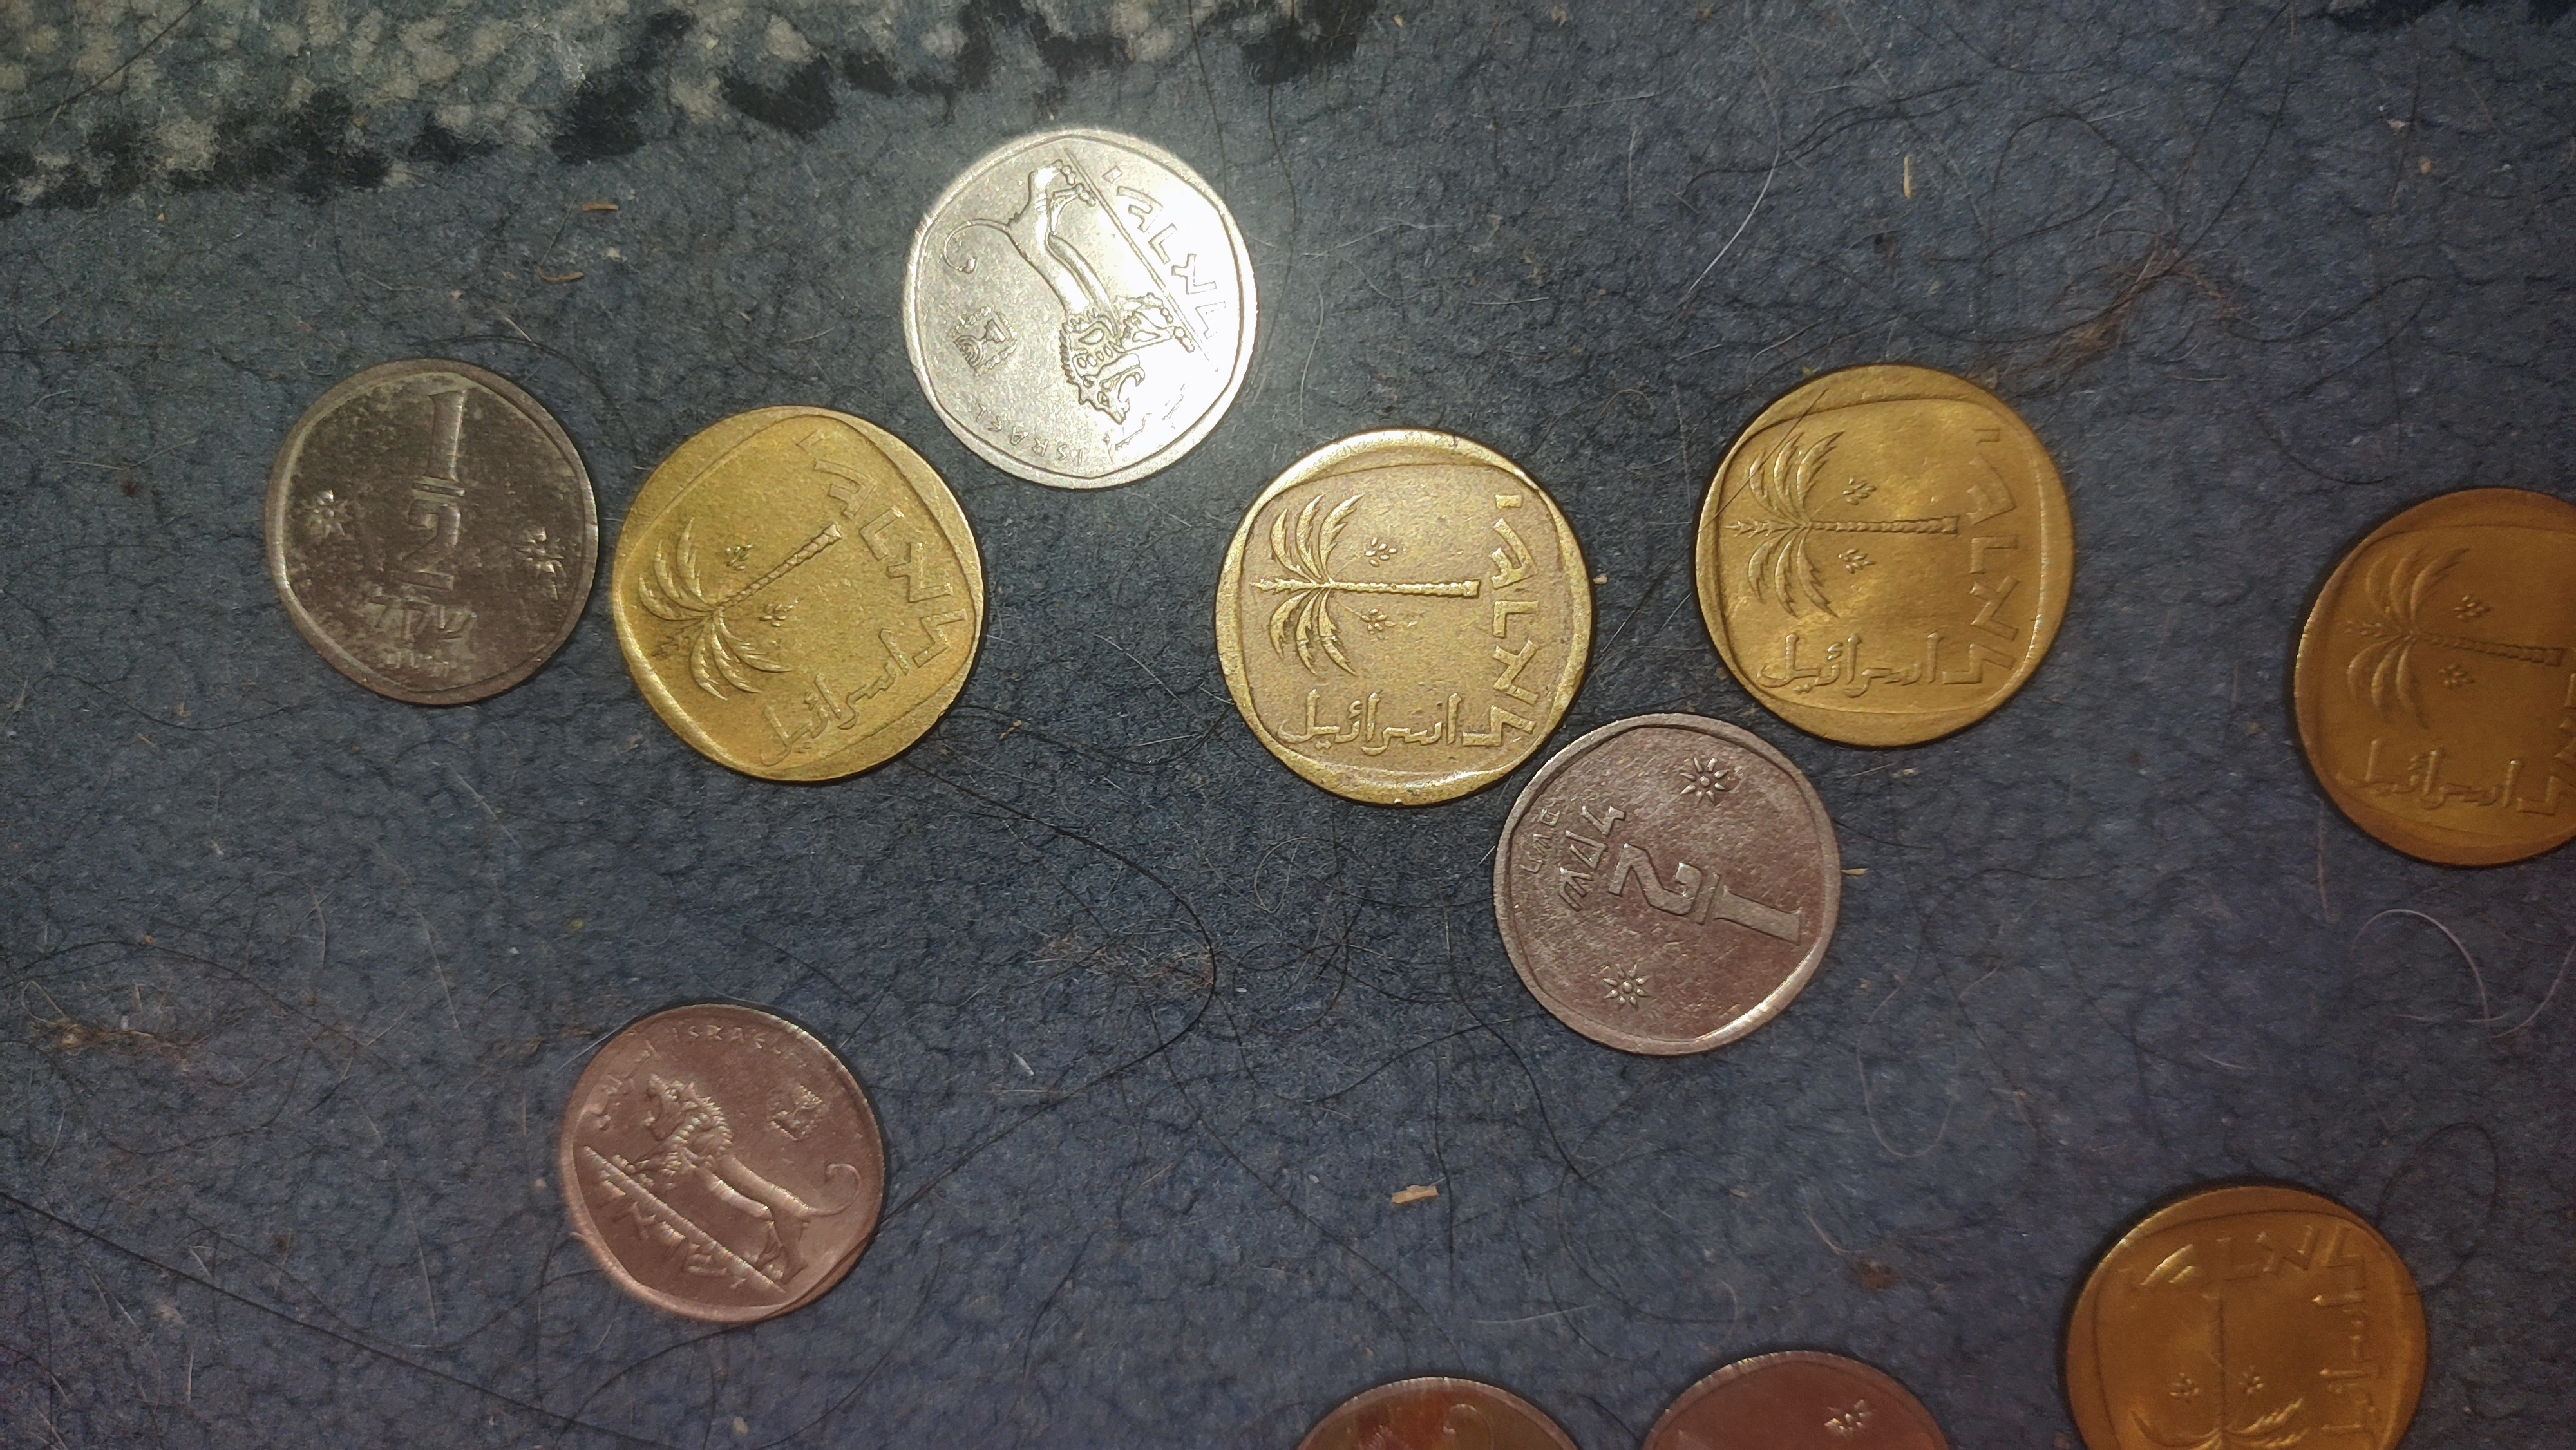1/2 old sheqel: (895, 118, 1267, 500), (1484, 706, 1849, 1063), (258, 352, 609, 713), (550, 992, 893, 1330)
10 old agora brown: (605, 389, 1003, 798), (1681, 354, 2079, 759), (1205, 408, 1601, 815), (2284, 476, 2576, 886), (2049, 1169, 2431, 1450)
